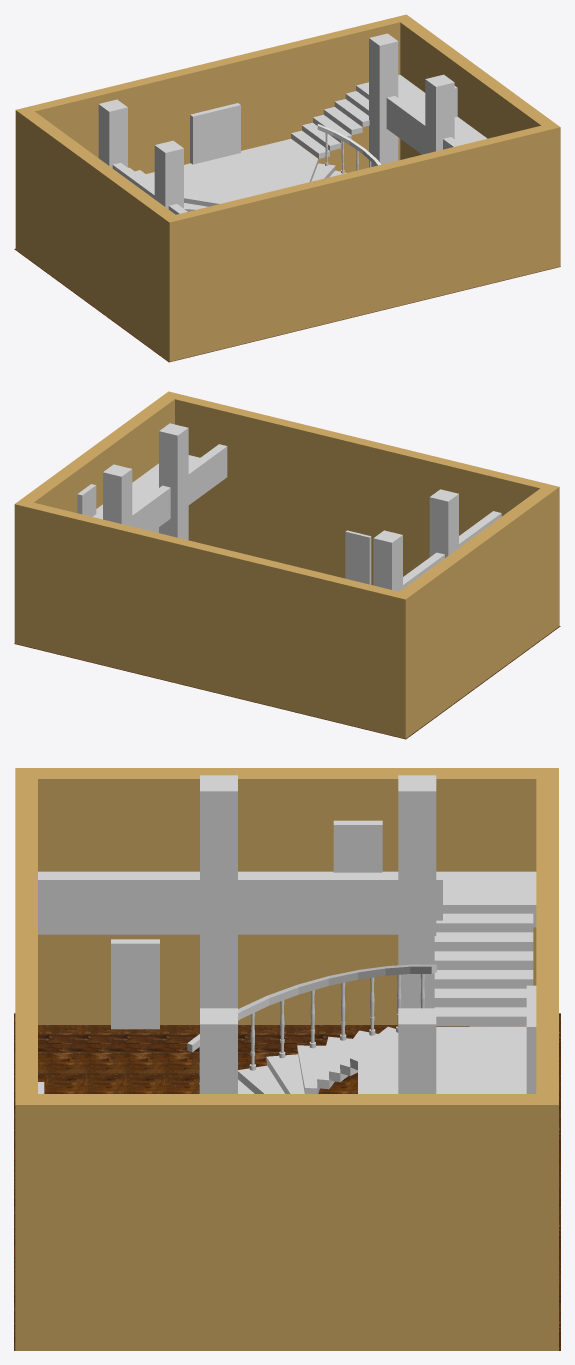
Rendered from stage_select.fbx.
The picture shows the model from 3 angles, top to bottom: view 1: azimuth 30°, elevation 25°; view 2: azimuth 150°, elevation 25°; view 3: azimuth 270°, elevation 25°; orthographic projection. The views are drawn at different scales.
Parts seen in each view (by area): view 1: walls.010, pillar, landing, 2F_floor.003, stair.005, door.004, stair.004, Plane.004; view 2: walls.010, pillar, 2F_floor.003, door.006, Plane.004, door.005; view 3: walls.010, 2F_floor.003, pillar, Plane.004, stair.005, stair.004, landing, door.005, door.004.
Boxes of the visible parts, x1,y1,x2,y2 form: walls.010: [15, 14, 560, 361]; pillar: [98, 33, 454, 209]; landing: [146, 139, 318, 206]; 2F_floor.003: [112, 74, 487, 214]; stair.005: [128, 91, 369, 186]; door.004: [190, 103, 240, 164]; stair.004: [184, 124, 381, 211]; Plane.004: [14, 248, 560, 362]; walls.010: [14, 391, 559, 738]; pillar: [103, 423, 458, 591]; 2F_floor.003: [93, 444, 501, 588]; door.006: [345, 530, 371, 584]; Plane.004: [14, 626, 560, 739]; door.005: [77, 484, 158, 532]; walls.010: [15, 768, 558, 1350]; 2F_floor.003: [38, 871, 536, 934]; pillar: [200, 775, 436, 1093]; Plane.004: [14, 1013, 560, 1350]; stair.005: [434, 913, 533, 1025]; stair.004: [187, 964, 436, 1093]; landing: [358, 1026, 526, 1093]; door.005: [111, 820, 382, 1029]; door.004: [526, 985, 536, 1093].
Size of the model in its own units: 1794 by 698 by 1229.
